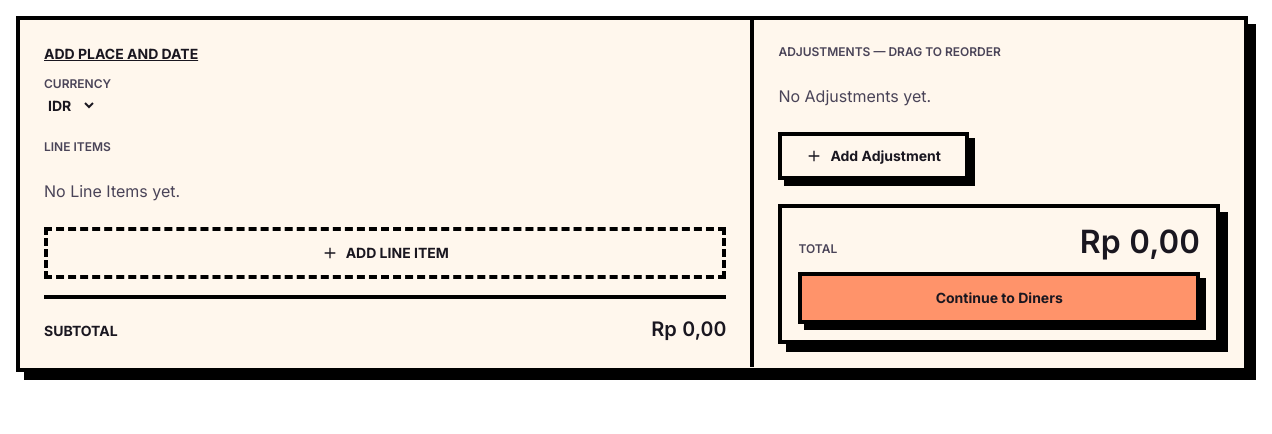
Test case: BillEditorScreen › reveals the Place/Date fields once asked to
Click the button "Add place and date". click: (121, 54)
box: x1=44 y1=44 x2=198 y2=64
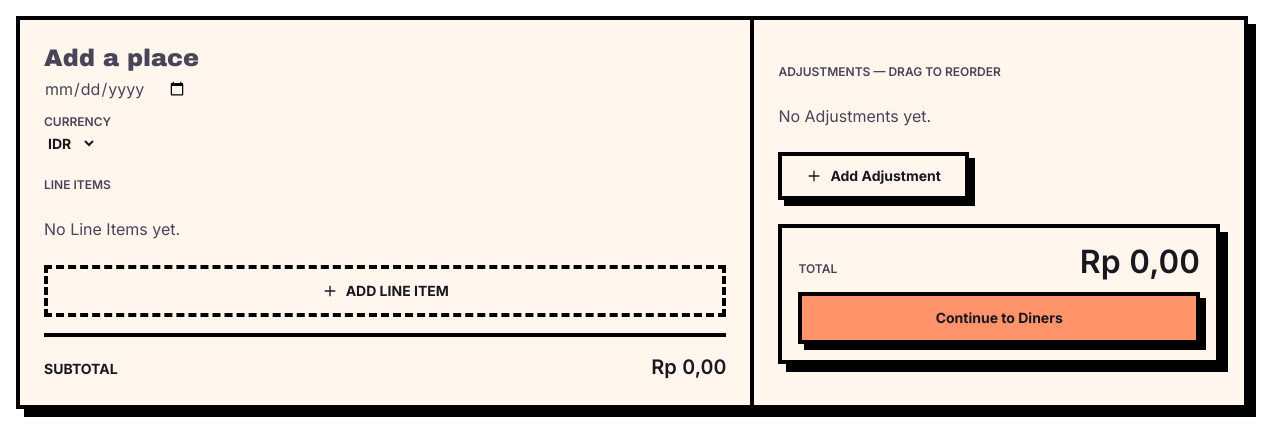
Check: the field labelled "place" is shown, box x1=44 y1=44 x2=726 y2=72
Check: the date field named "Date" is shown, box x1=44 y1=76 x2=187 y2=102
